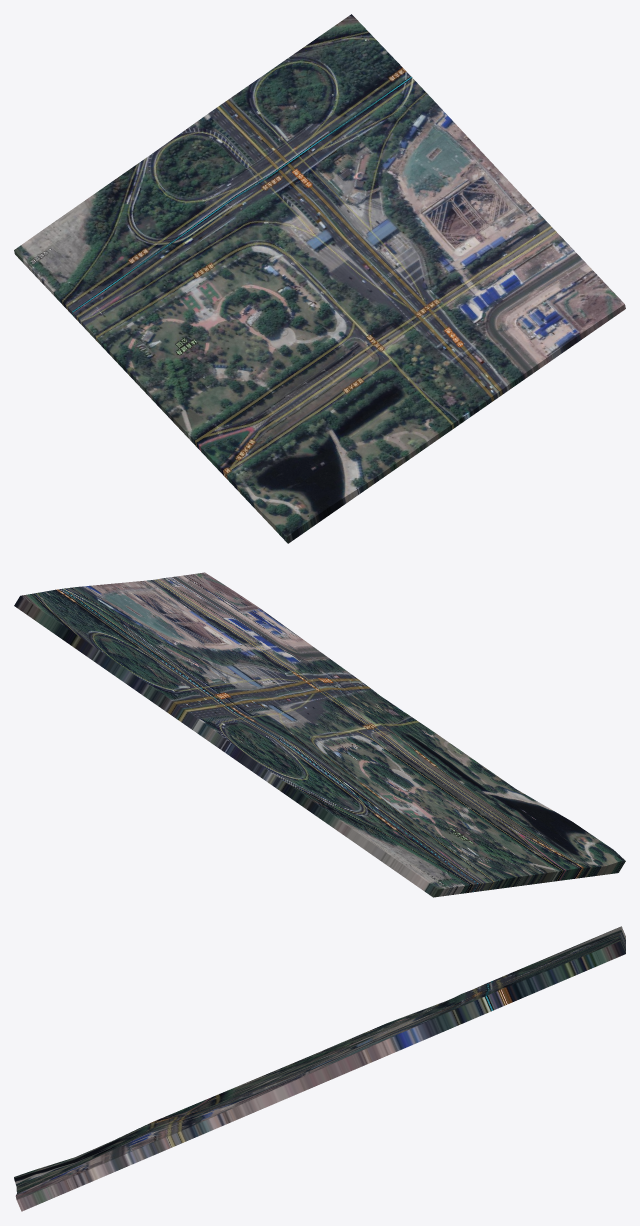
The picture shows the model from 3 angles, top to bottom: view 1: azimuth 30°, elevation 25°; view 2: azimuth 150°, elevation 25°; view 3: azimuth 270°, elevation 25°; orthographic projection. The views are drawn at different scales.
Visible parts, largest first — view 1: 0_14_27; view 2: 0_14_27; view 3: 0_14_27.
Part boxes in pixels (left/top/right/bottom): 0_14_27: left=14, top=14, right=625, bottom=543; 0_14_27: left=14, top=572, right=625, bottom=897; 0_14_27: left=14, top=926, right=625, bottom=1211.
Size of the model in its own units: 596 by 439 by 549.
Materials: 1 (1 with a texture image).
